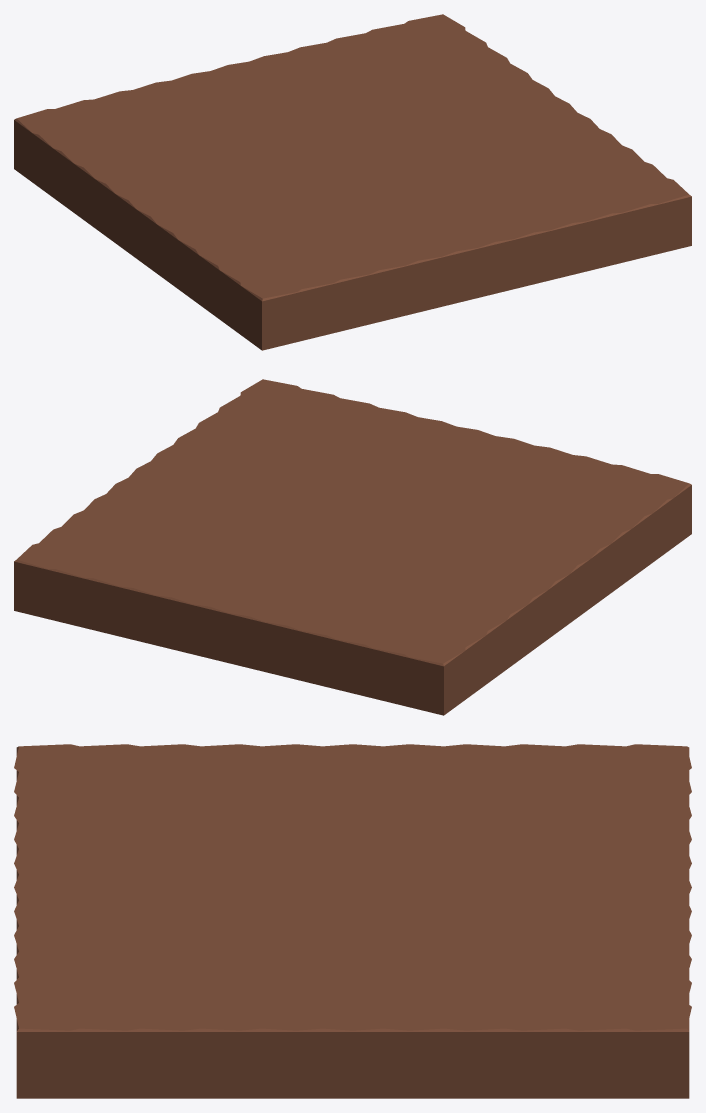
Rendered from mahsulot.glb.
3 views of the same model, one above another, from view 1: azimuth 30°, elevation 25°; view 2: azimuth 150°, elevation 25°; view 3: azimuth 270°, elevation 25° (orthographic). The views are drawn at different scales.
Parts seen in each view (by area): view 1: mahsulot_A; view 2: mahsulot_A; view 3: mahsulot_A.
Part boxes in pixels (x1=…): mahsulot_A: x1=14, y1=14, x2=691, y2=350; mahsulot_A: x1=14, y1=379, x2=691, y2=715; mahsulot_A: x1=14, y1=744, x2=691, y2=1098.
Bounding box in the file's own units: 0.4 × 0.045 × 0.4.
